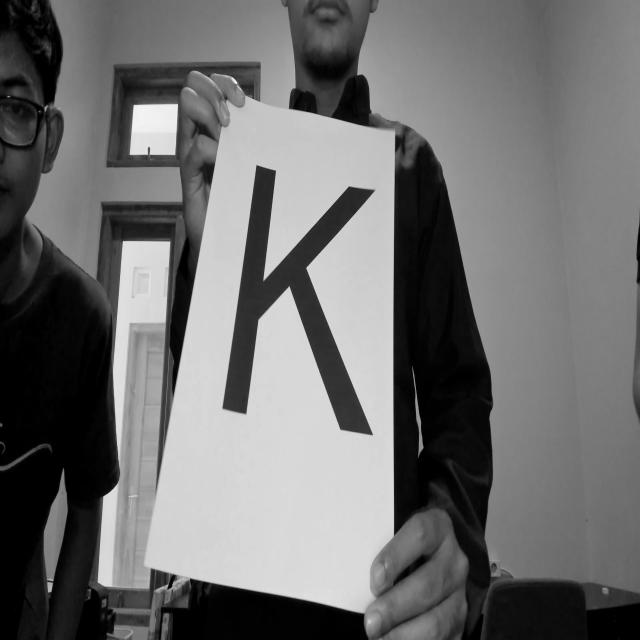k: (217, 154, 381, 467)
